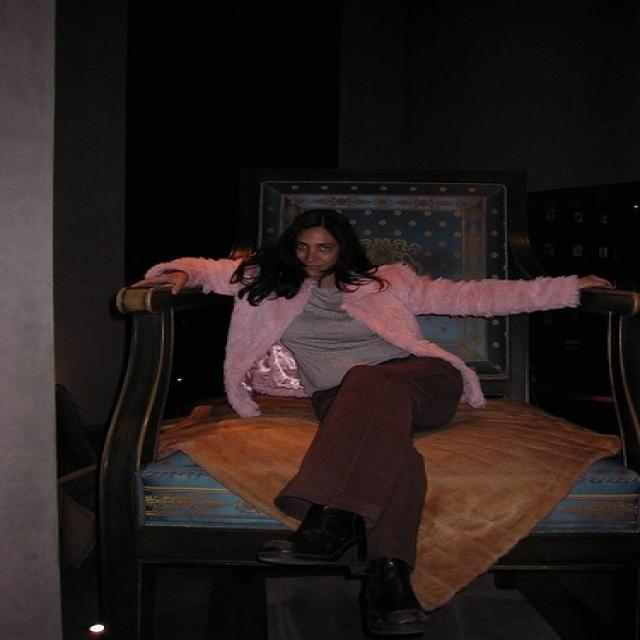chair: (101, 178, 638, 639)
